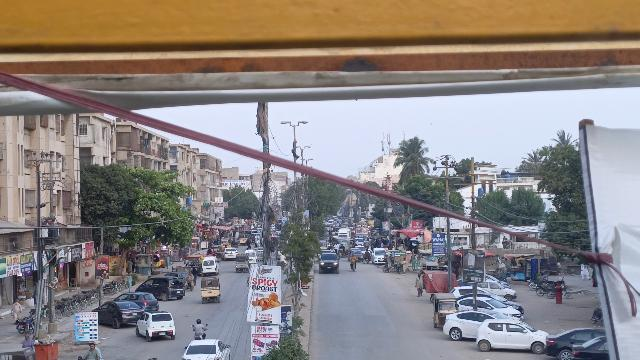Bike: (349, 261, 359, 271)
Car: (475, 318, 550, 353), (441, 308, 507, 340), (544, 328, 604, 359), (459, 296, 523, 319), (135, 310, 178, 343), (91, 301, 144, 327), (136, 276, 185, 301), (181, 338, 230, 360), (116, 291, 159, 311), (317, 252, 340, 275)
Person: (9, 298, 22, 321), (414, 271, 425, 298), (192, 318, 207, 333), (20, 332, 34, 348), (349, 254, 358, 262)
Rickshaw: (431, 291, 458, 329), (198, 276, 221, 304), (233, 252, 250, 272)
Van: (201, 256, 220, 275)
